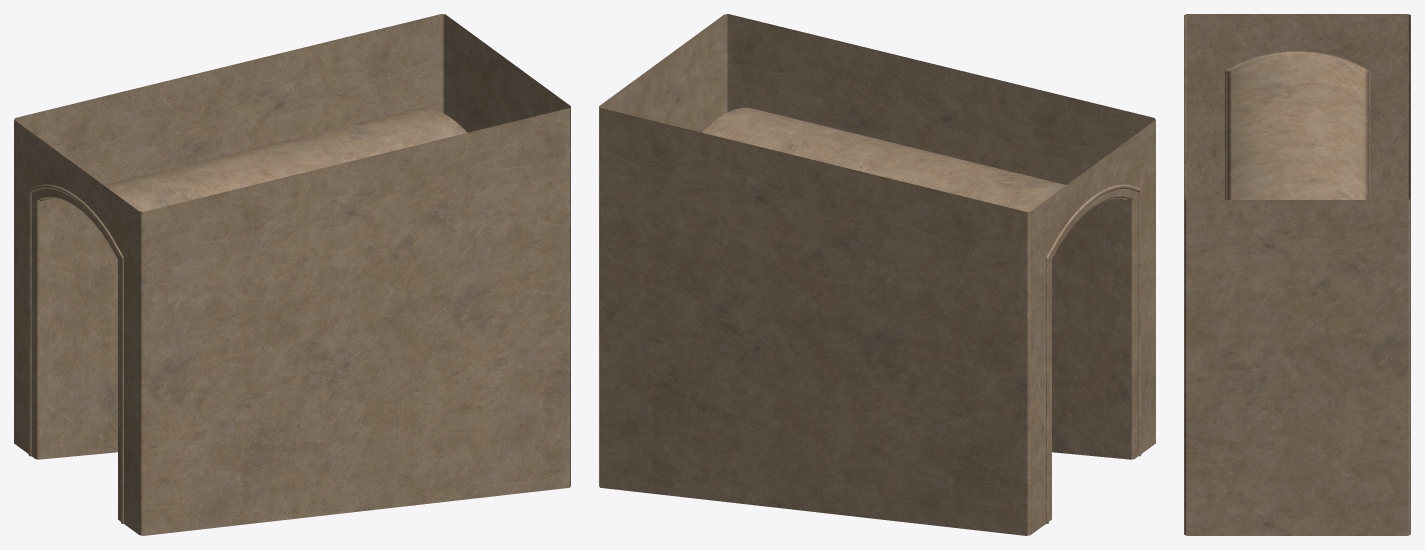
Rendered from SM_MausoleumWallsC.fbx.
3 views of the same model, side by side, from view 1: azimuth 30°, elevation 25°; view 2: azimuth 150°, elevation 25°; view 3: azimuth 270°, elevation 25° (orthographic). The views are drawn at different scales.
Parts seen in each view (by area): view 1: SM_MausoleumWallsC_LOD0; view 2: SM_MausoleumWallsC_LOD0; view 3: SM_MausoleumWallsC_LOD0.
Part boxes in pixels (x1,y1,x2,y2): SM_MausoleumWallsC_LOD0: [14, 14, 570, 535]; SM_MausoleumWallsC_LOD0: [599, 14, 1155, 535]; SM_MausoleumWallsC_LOD0: [1184, 14, 1410, 535].
Size of the model in its own units: 287 by 147 by 241.
Materials: 1 (1 with a texture image).
